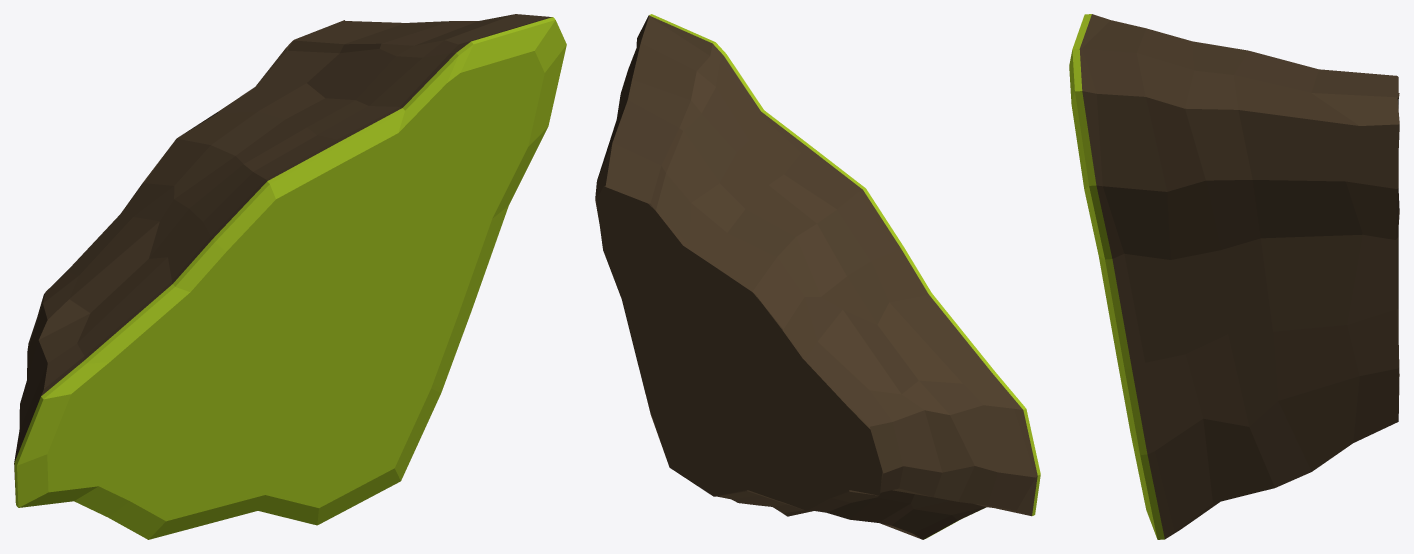
File: Cliff4.fbx
3 views of the same model, side by side, from view 1: azimuth 30°, elevation 25°; view 2: azimuth 150°, elevation 25°; view 3: azimuth 270°, elevation 25° (orthographic). The views are drawn at different scales.
Parts seen in each view (by area): view 1: Cliff_Small_3; view 2: Cliff_Small_3; view 3: Cliff_Small_3.
Part boxes in pixels (x1,y1,x2,y2): Cliff_Small_3: (14, 14, 566, 539); Cliff_Small_3: (595, 14, 1040, 539); Cliff_Small_3: (1069, 14, 1399, 539).
Bounding box in the file's own units: 12.19 × 11.33 × 5.65.
